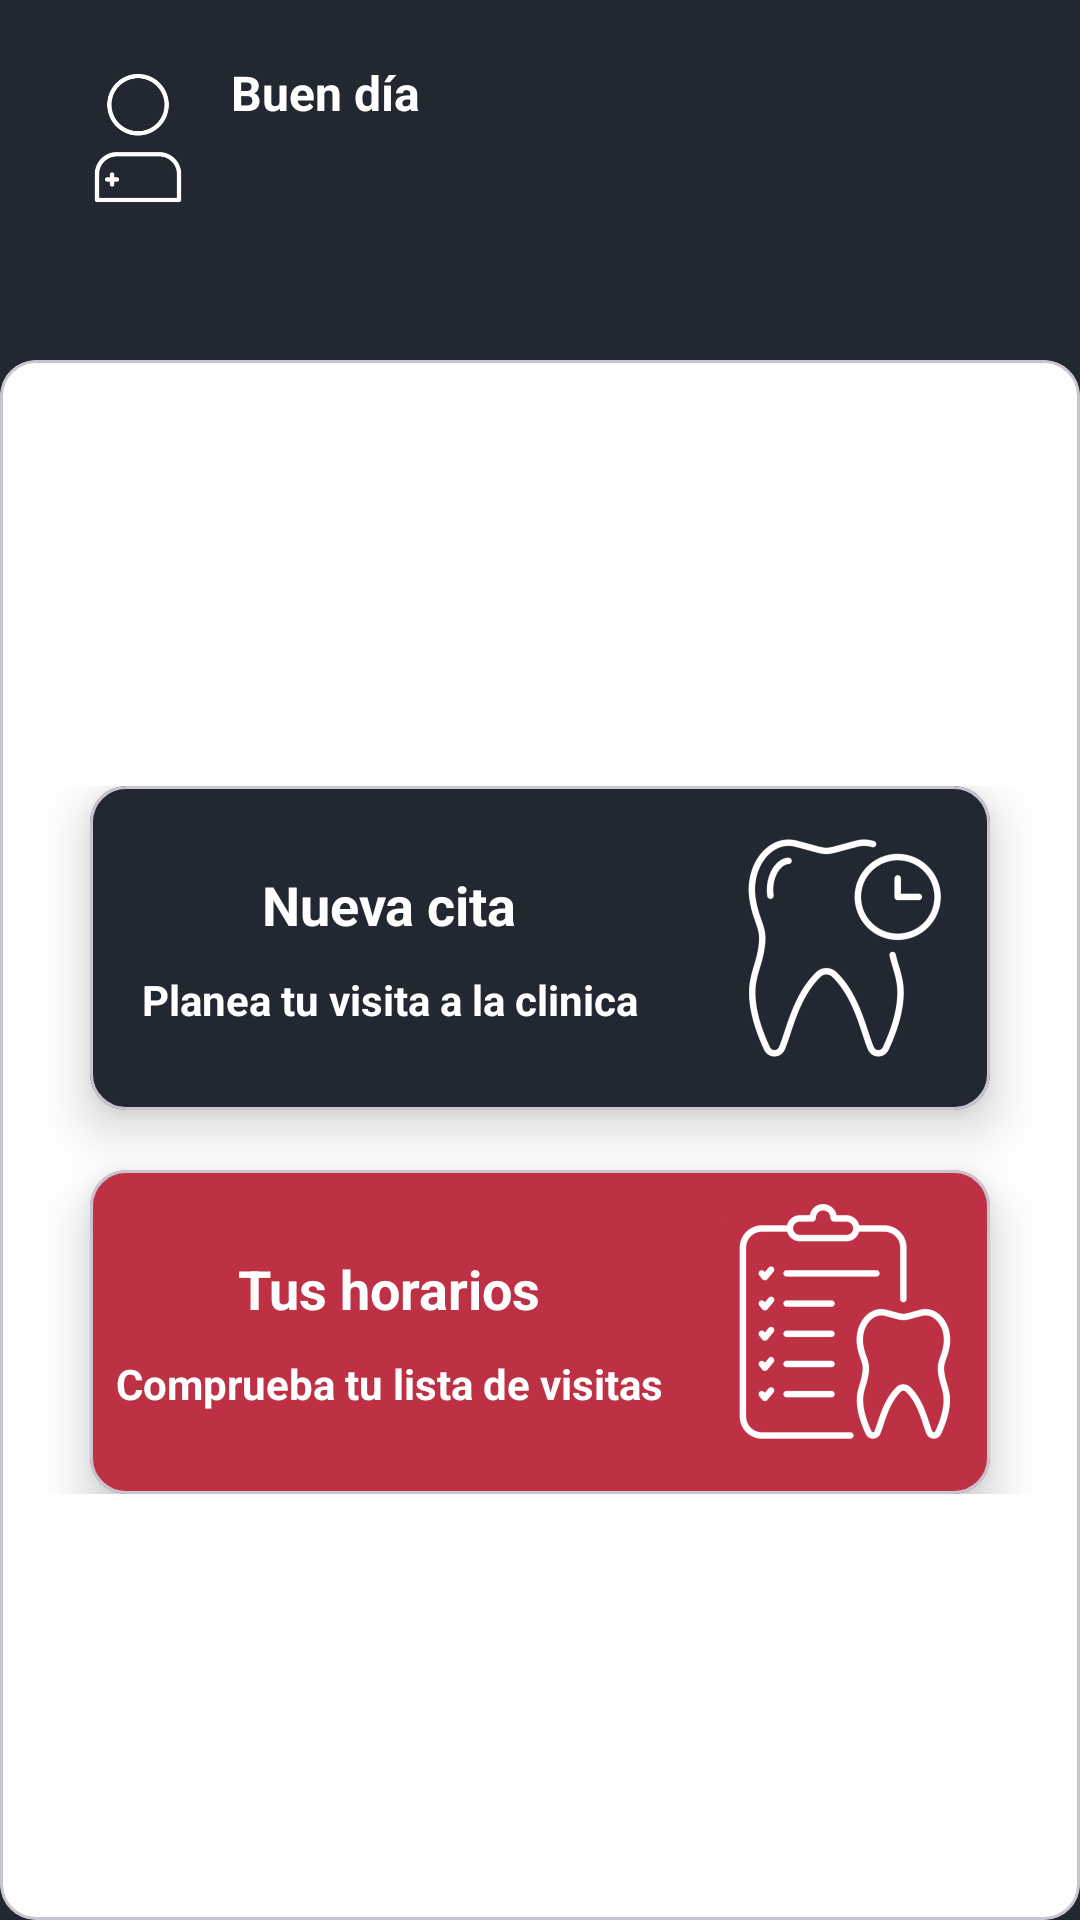

Icons on this 1080*1920 Android screen, each with the point to tap as point (x, y):
dental checklist: point (828, 1332)
dental tooth with clock: point (828, 948)
patient line: point (138, 138)
